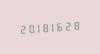eight: (41, 20, 48, 34), (73, 18, 80, 31)
one: (33, 21, 40, 34), (49, 20, 56, 33)
six: (57, 19, 64, 32)
two: (65, 18, 72, 32), (17, 22, 24, 35)
zero: (25, 21, 32, 35)
